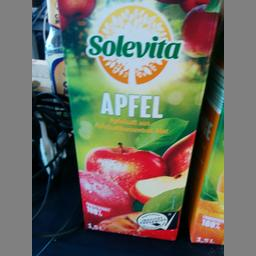juice: (56, 0, 218, 241)
